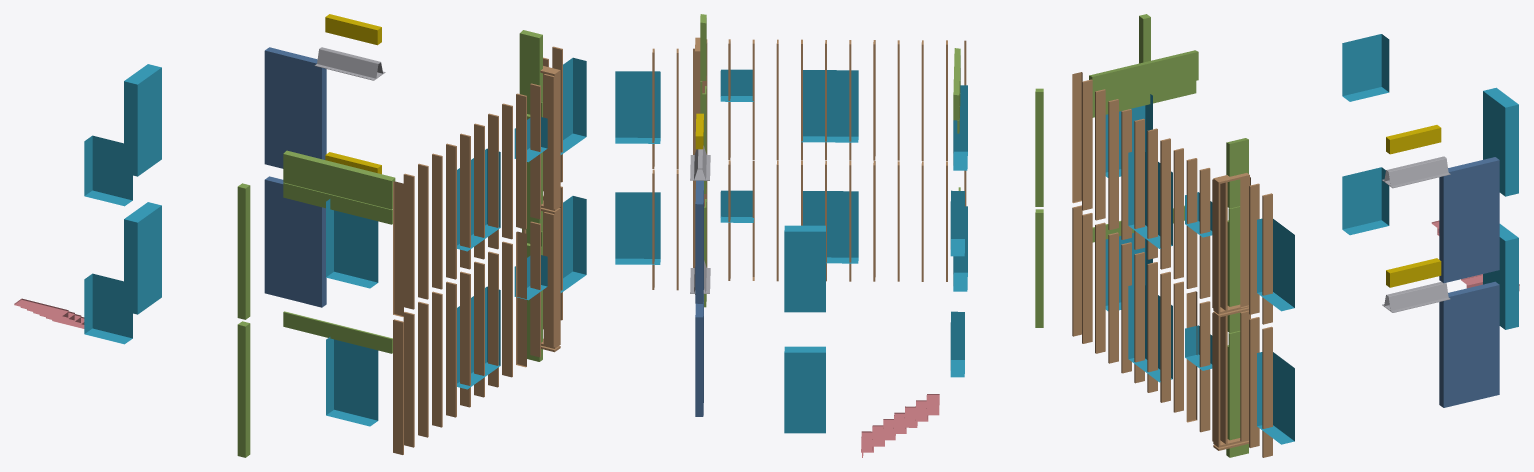
The picture shows the model from 3 angles, left to right: view 1: azimuth 30°, elevation 25°; view 2: azimuth 150°, elevation 25°; view 3: azimuth 270°, elevation 25°; orthographic projection. The views are drawn at different scales.
Size of the model in its own units: 11.83 by 7.8 by 10.08.
